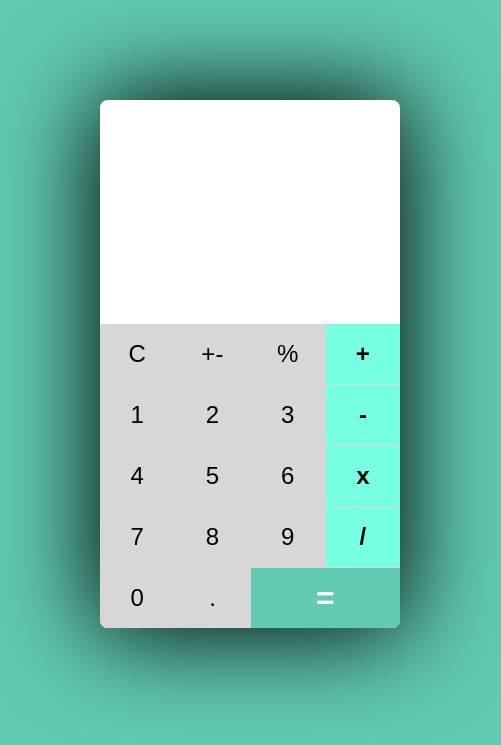
Test: Calculator › Should show an error on invalid ops
Click the button "5". click: (212, 476)
box: [175, 446, 250, 506]
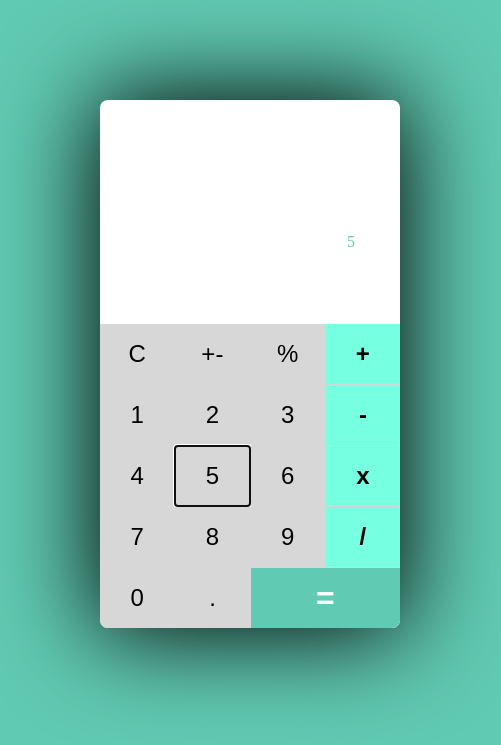
Click the button "-". click: (363, 415)
box: [326, 385, 400, 445]
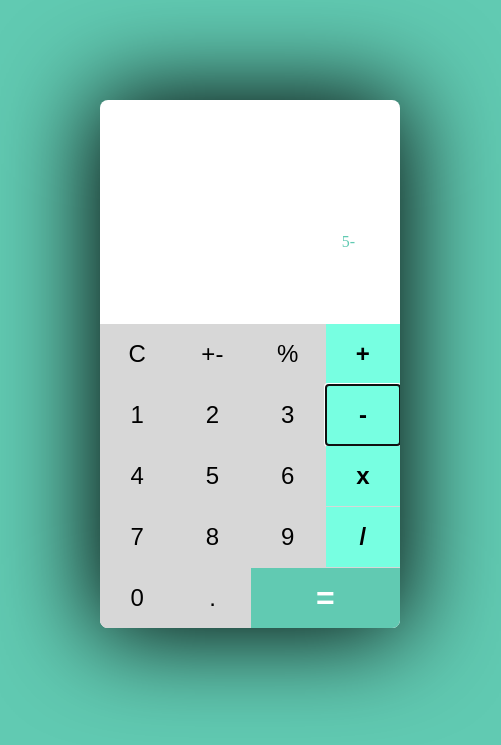
Click the button "-". click: (363, 415)
box: [326, 385, 400, 445]
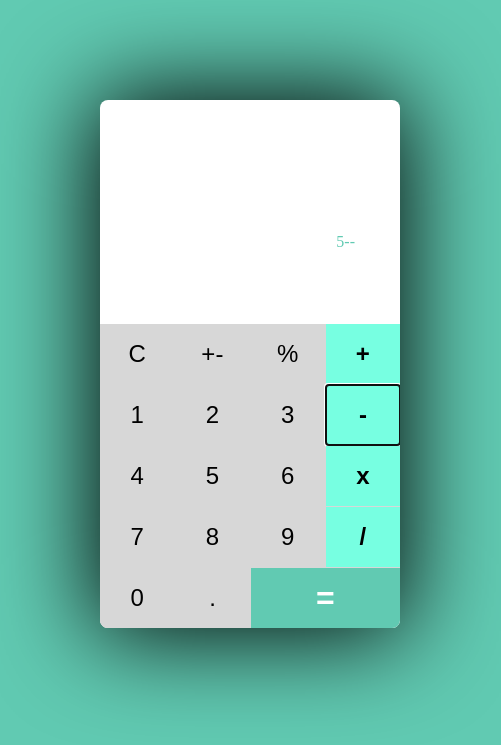
Click the button "+". click: (363, 354)
box: [326, 324, 400, 384]
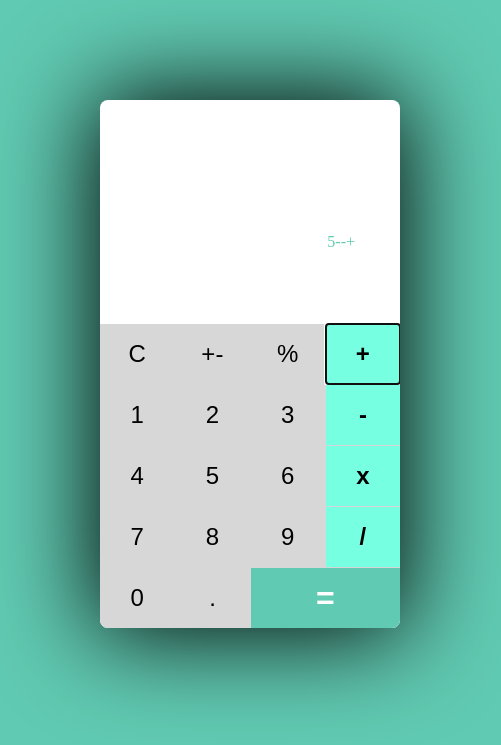
Click the button "3". click: (288, 415)
box: [250, 385, 325, 445]
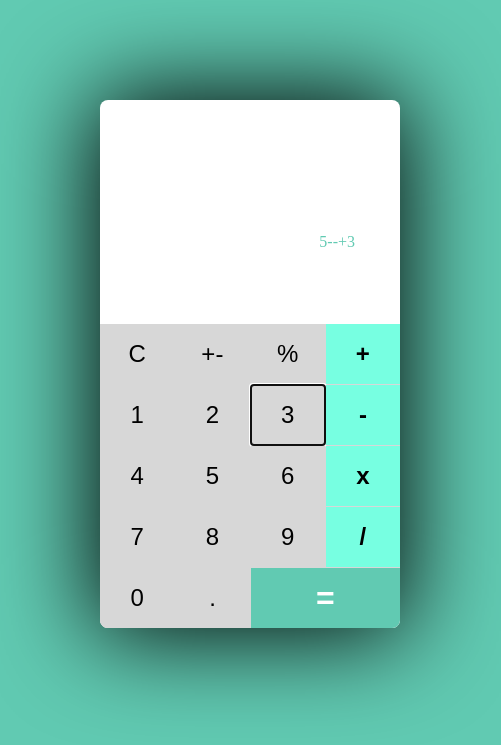
Click the button "=". click: (325, 598)
box: [251, 568, 400, 628]
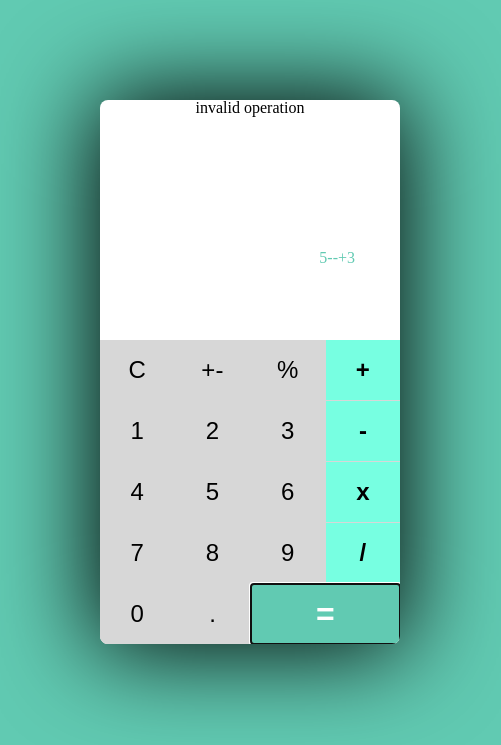
expect the text "invalid operation" is shown: met, box [196, 100, 304, 116]
